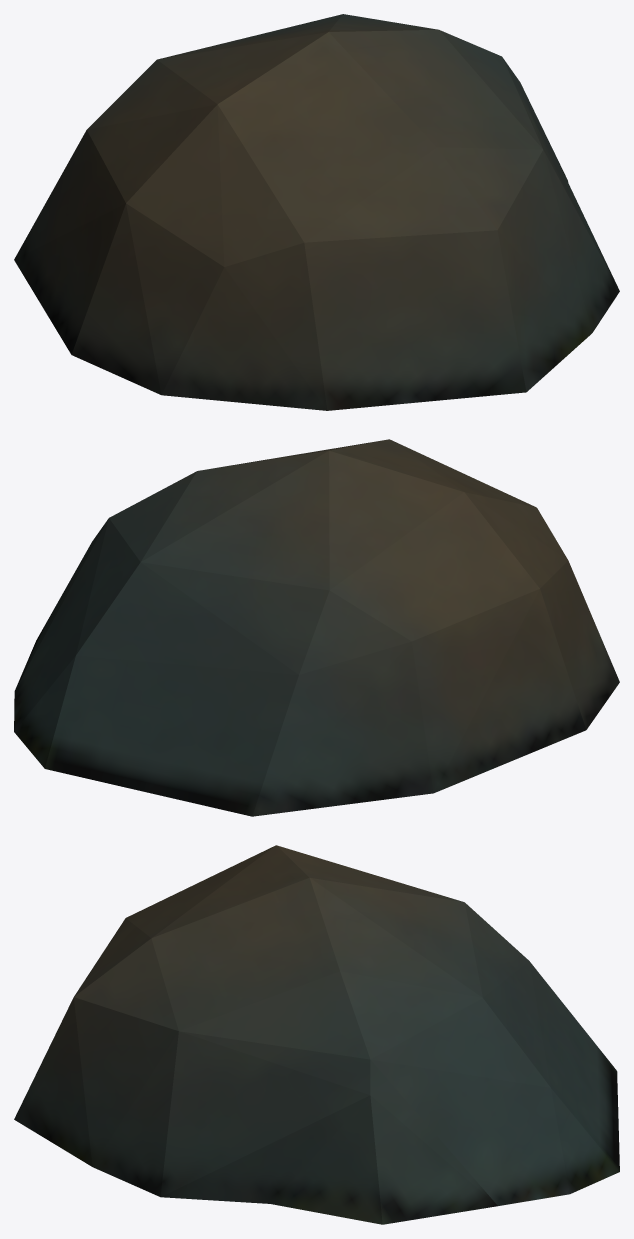
The picture shows the model from 3 angles, top to bottom: view 1: azimuth 30°, elevation 25°; view 2: azimuth 150°, elevation 25°; view 3: azimuth 270°, elevation 25°; orthographic projection. The views are drawn at different scales.
Visible parts, largest first — view 1: geometry_0.018_Baked; view 2: geometry_0.018_Baked; view 3: geometry_0.018_Baked.
Boxes of the visible parts, x1,y1,x2,y2 form: geometry_0.018_Baked: (14, 14, 619, 410); geometry_0.018_Baked: (14, 439, 619, 816); geometry_0.018_Baked: (14, 845, 619, 1224).
Size of the model in its own units: 7.41 by 3.31 by 7.81.
